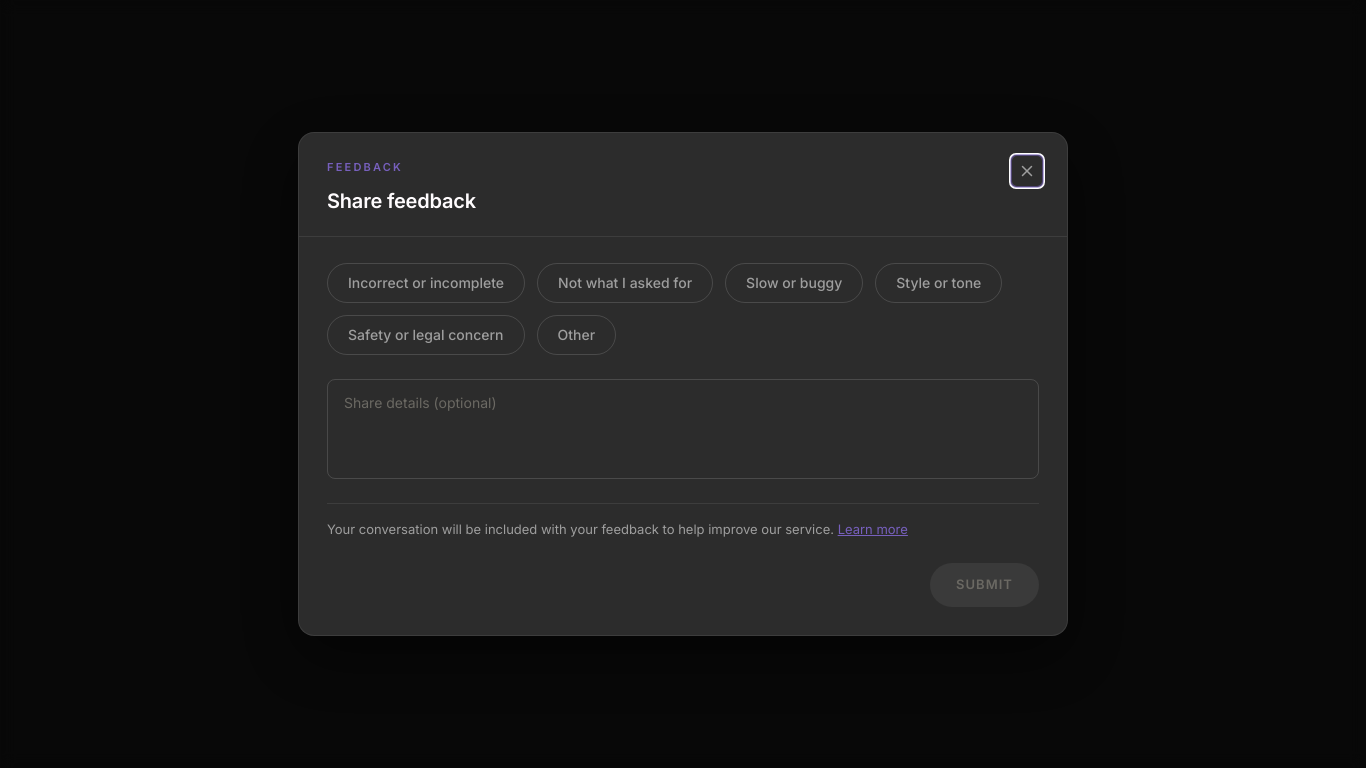
Scenario: FeedbackModal › submit button is enabled after selecting a non-Other reason
Click the button "Style or tone" at [939, 282], box [875,262,1002,302]
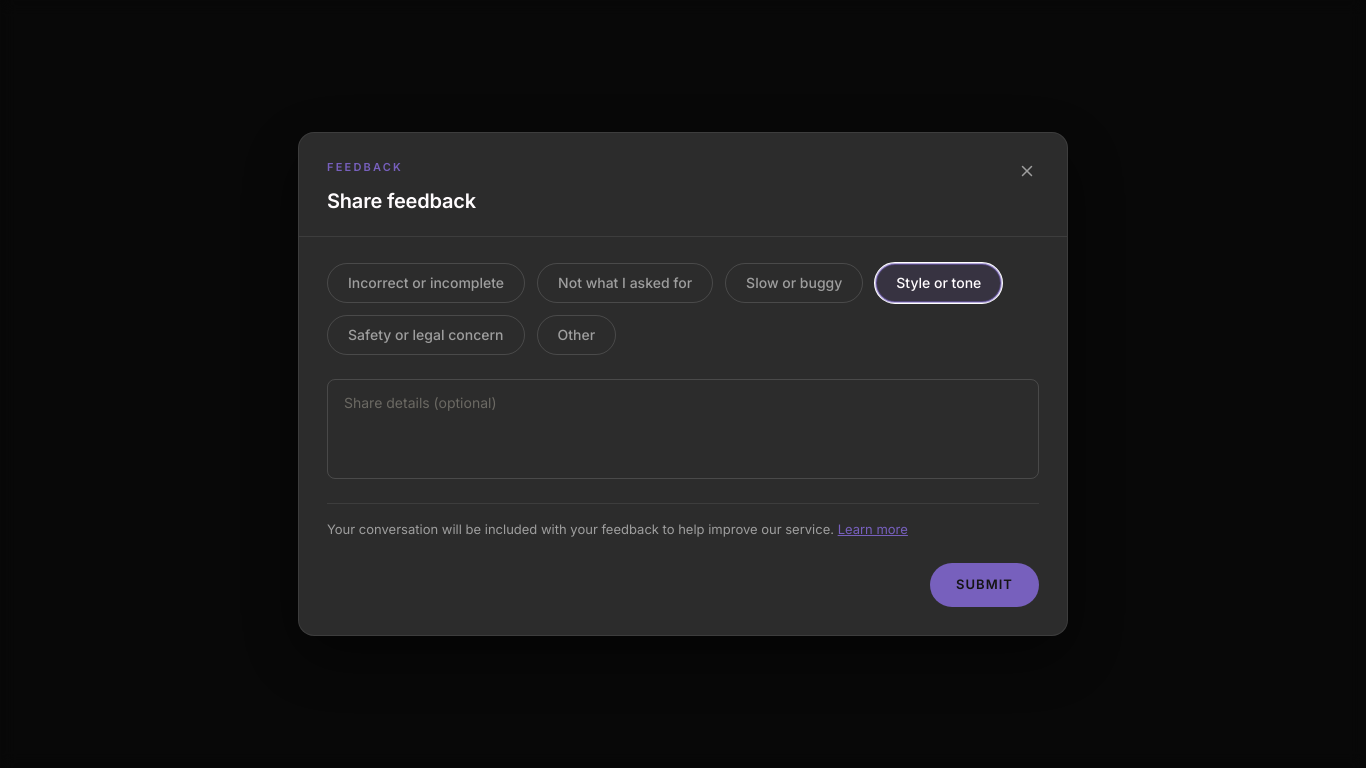
Now the button "Submit" is enabled, box [930,563,1039,607]
